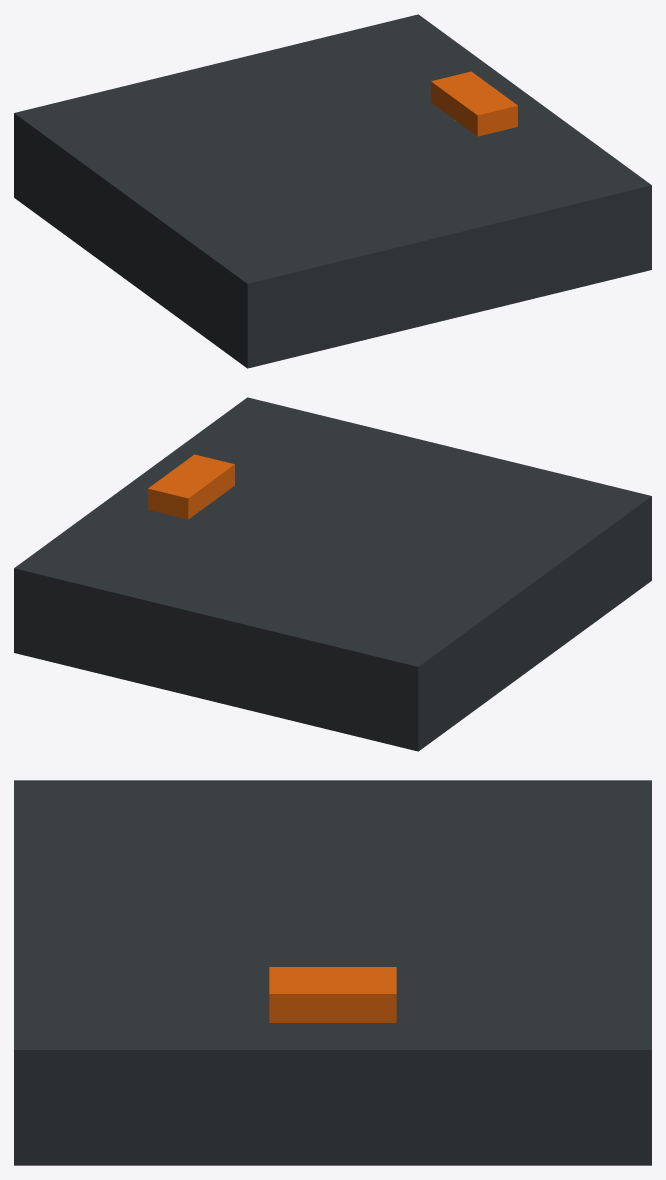
File: hybrid_pack.glb
3 renders of one model, top to bottom at view 1: azimuth 30°, elevation 25°; view 2: azimuth 150°, elevation 25°; view 3: azimuth 270°, elevation 25°, orthographic. The views are drawn at different scales.
Parts seen in each view (by area): view 1: body:compound; view 2: body:compound; view 3: body:compound.
Boxes of the visible parts, box(x1,y1,x2,y2) form: body:compound: box(14, 14, 651, 368); body:compound: box(14, 397, 651, 751); body:compound: box(14, 780, 651, 1165).
Bounding box in the file's own units: 0.625 × 0.1562 × 0.625.
